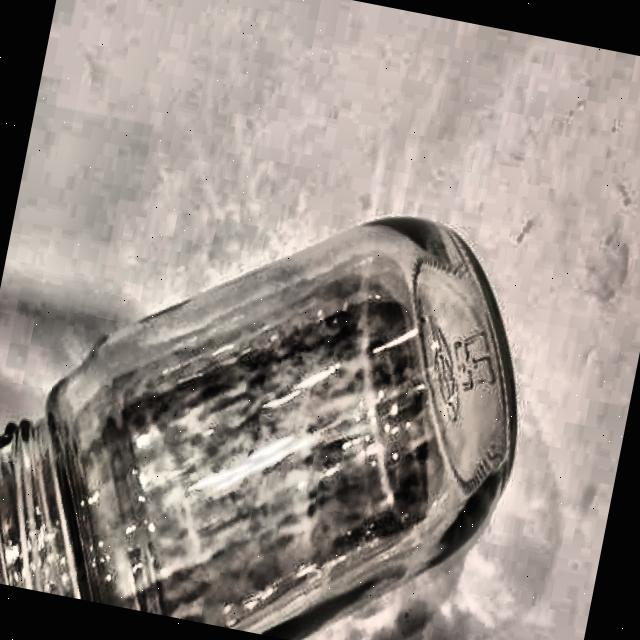glass: (0, 144, 560, 640)
